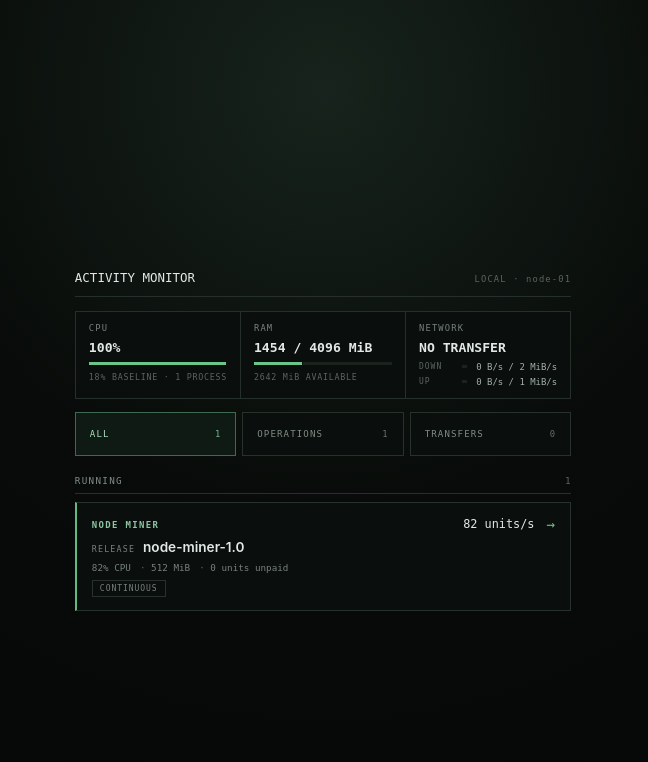
Scenario: Activity Monitor: continuous NODE Miner runtime › marks continuous runtime as continuous instead of giving it a completion bar
Expected: the text "CONTINUOUS" is shown, [92, 580, 166, 596]
Expected: the text with class "am-row-metric" reads "82 units/s", [463, 516, 534, 530]
Click the button with class "am-row" at [126, 524], box [75, 502, 571, 610]
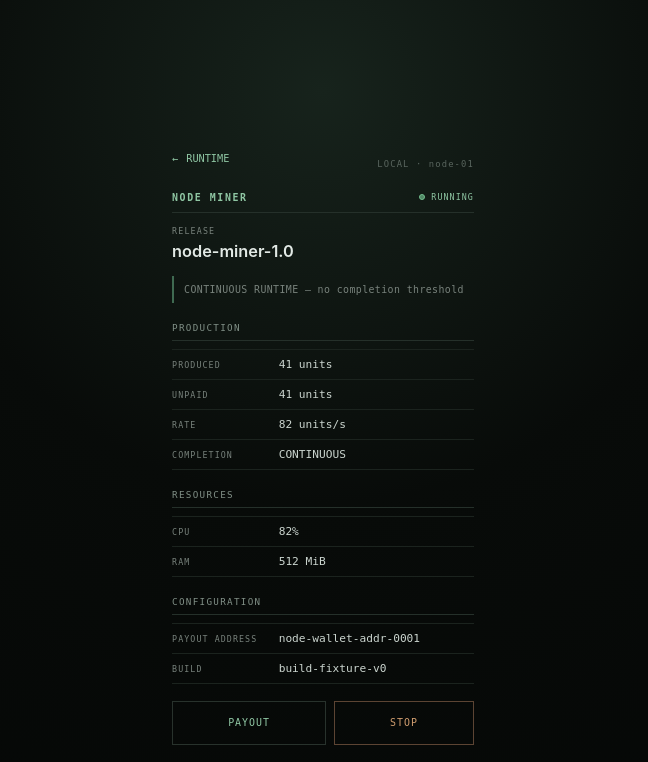
Expected: the text "CONTINUOUS RUNTIME — no completion threshold" is shown, [172, 276, 474, 302]
Expected: the text "CONTINUOUS" is shown, [279, 448, 346, 460]
Expected: the text "node-wallet-addr-0001" is shown, [279, 632, 420, 644]
